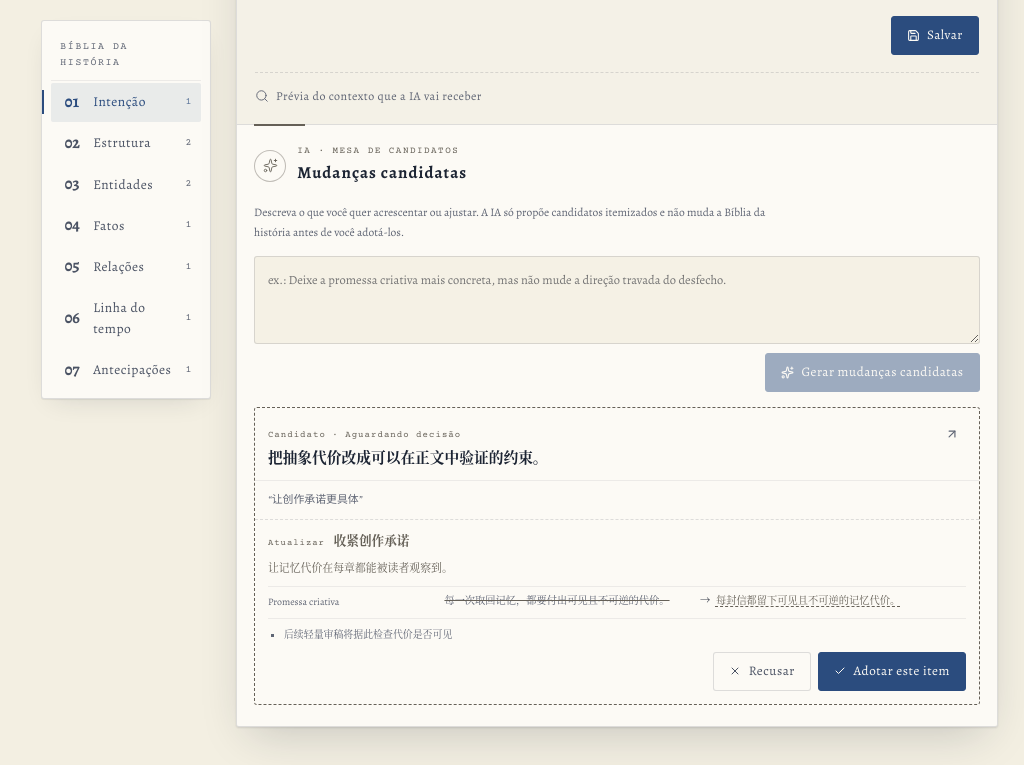
Bíblia da história › shows candidate diffs inside the current page and asks for a second confirmation on locked content
The width and height of the screenshot is (1024, 765).
Later steps or results of the test are not shown.
(page scrolled)
Expected: the heading "收紧创作承诺" is shown, [334,532,410,551]
Expected: the text "每封信都留下可见且不可逆的记忆代价。" is shown, [716,594,900,608]
Click the button "Adotar este item". click: (892, 671)
box: [818,652,966,690]
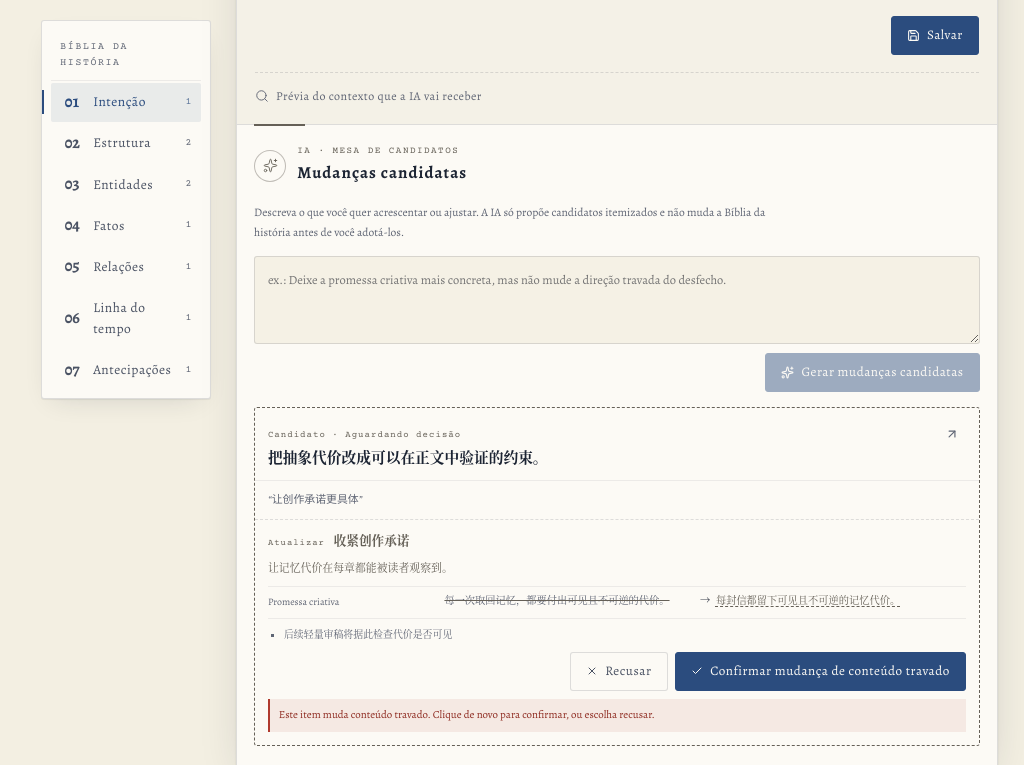
Now the text "Este item muda conteúdo travado. Clique de novo para confirmar, ou escolha recusar." is shown, box [279,708,655,722]
